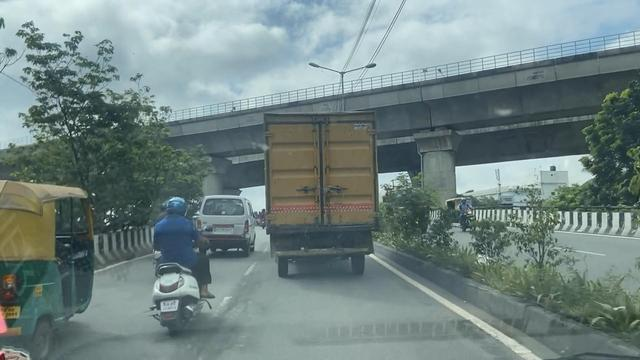HMV: (268, 113, 380, 269)
LMV: (0, 186, 99, 343), (156, 198, 210, 330), (200, 196, 253, 253)
